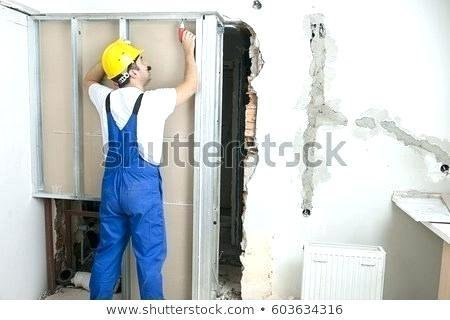helmet: (102, 42, 146, 83)
